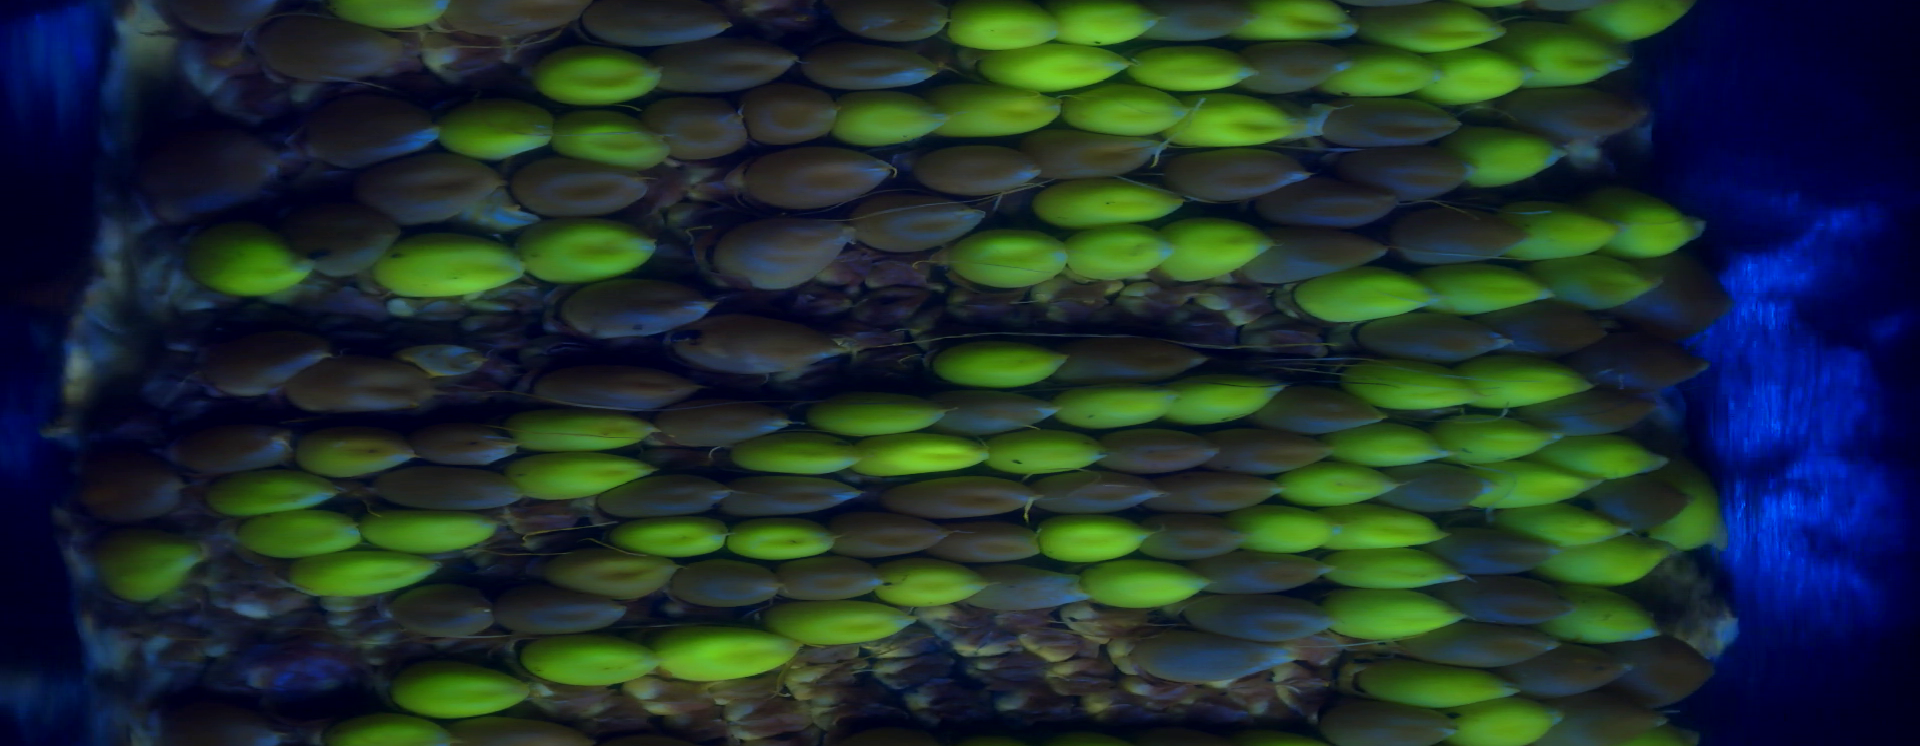fluorescent: (509, 224, 664, 294), (377, 230, 538, 294), (654, 627, 795, 691), (522, 627, 654, 691), (187, 220, 309, 289), (520, 407, 655, 468), (102, 527, 203, 604), (299, 420, 413, 485), (948, 230, 1071, 289), (1367, 1, 1511, 51), (287, 548, 433, 597), (518, 50, 660, 100), (513, 452, 651, 502), (1157, 218, 1266, 282), (936, 336, 1060, 390), (432, 105, 550, 162), (1182, 96, 1302, 149), (1057, 87, 1184, 136), (1063, 229, 1173, 285), (558, 111, 670, 167), (389, 666, 527, 710), (939, 85, 1060, 134), (1367, 659, 1522, 697), (1033, 183, 1179, 223), (1325, 592, 1455, 637), (1520, 27, 1616, 87), (1424, 266, 1555, 310), (778, 600, 912, 643), (1551, 589, 1653, 646), (857, 436, 989, 479), (1173, 376, 1280, 428), (950, 1, 1059, 51), (1551, 537, 1664, 584), (1351, 363, 1468, 408), (1553, 258, 1670, 304), (976, 49, 1125, 85), (741, 434, 857, 479), (1086, 560, 1205, 604), (1593, 1, 1711, 45), (841, 94, 947, 143), (1466, 363, 1586, 405), (1292, 274, 1416, 314), (211, 475, 345, 511), (989, 432, 1109, 472), (1325, 507, 1445, 546), (621, 521, 737, 560), (1431, 59, 1524, 108), (1506, 505, 1619, 545), (809, 398, 940, 432), (1040, 517, 1147, 559), (1615, 201, 1700, 254), (1513, 209, 1611, 255), (1138, 49, 1244, 91), (1240, 1, 1347, 43), (1331, 550, 1460, 584), (1463, 134, 1555, 181), (362, 516, 490, 550), (874, 571, 986, 610), (245, 513, 361, 550), (1558, 440, 1667, 479), (1435, 423, 1544, 462), (732, 521, 844, 559), (1332, 49, 1420, 94), (1067, 1, 1147, 50), (1292, 465, 1396, 503), (1239, 507, 1332, 549), (1349, 423, 1439, 465), (1060, 390, 1180, 421), (1479, 469, 1589, 503), (1455, 702, 1555, 739), (337, 1, 451, 33), (1667, 481, 1719, 550), (356, 714, 454, 746), (1640, 730, 1689, 746)
nonfluorescent: (273, 178, 396, 271), (149, 100, 269, 195), (309, 78, 437, 158), (716, 217, 857, 288), (261, 17, 397, 87), (544, 352, 699, 408), (738, 143, 890, 198), (203, 318, 322, 388), (680, 316, 838, 367), (1393, 200, 1521, 263), (373, 159, 503, 220), (513, 156, 655, 211), (1364, 314, 1509, 366), (793, 33, 940, 85), (1313, 691, 1449, 746), (855, 194, 980, 252), (1505, 85, 1647, 136), (653, 37, 796, 87), (493, 581, 629, 633), (553, 279, 709, 323), (293, 360, 440, 407), (587, 2, 740, 47), (1131, 633, 1283, 677), (1070, 331, 1202, 381), (658, 394, 803, 440), (91, 456, 182, 523), (912, 140, 1038, 189), (1157, 156, 1305, 197), (1187, 595, 1331, 637), (386, 468, 522, 511), (1029, 129, 1160, 173), (182, 413, 289, 465), (1509, 304, 1611, 358), (680, 566, 795, 614), (1316, 104, 1458, 142), (1654, 263, 1722, 343), (1445, 575, 1566, 619), (898, 478, 1047, 513), (1260, 232, 1387, 273), (740, 89, 838, 143), (1097, 428, 1216, 472), (1351, 152, 1469, 195), (1624, 637, 1708, 697), (661, 91, 751, 147), (1450, 529, 1561, 573), (1273, 382, 1378, 429), (1427, 624, 1555, 660), (402, 582, 489, 636), (1218, 426, 1321, 472), (1253, 37, 1333, 94), (1528, 643, 1624, 691), (621, 478, 737, 517), (1599, 477, 1687, 527), (844, 1, 955, 40), (732, 475, 860, 510), (1190, 559, 1321, 592), (1273, 183, 1387, 220), (1396, 462, 1484, 511), (1608, 345, 1709, 387), (1545, 392, 1657, 430), (839, 513, 938, 555), (1145, 1, 1251, 39), (1150, 475, 1273, 507), (448, 1, 580, 31), (984, 568, 1087, 605), (174, 1, 267, 42), (1561, 697, 1651, 739), (951, 394, 1051, 430), (942, 524, 1040, 560), (1153, 521, 1239, 559), (782, 565, 869, 600), (1056, 473, 1149, 503), (429, 436, 524, 463)
